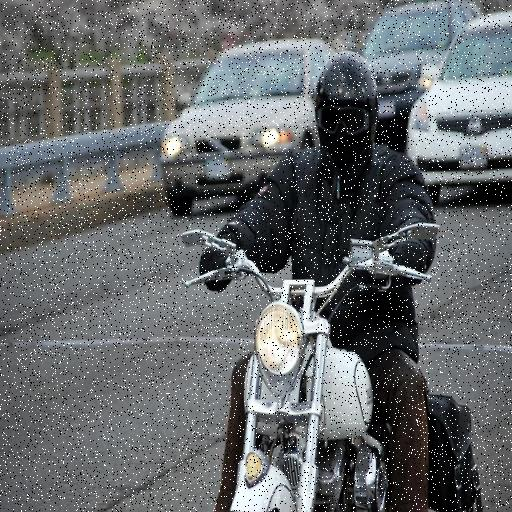Helmet: (316, 51, 378, 167)
Motor: (182, 223, 439, 511)
